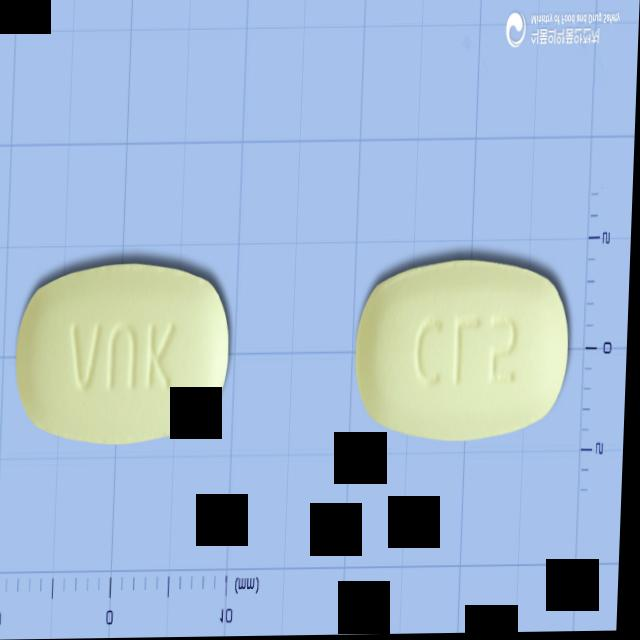Auscle: (14, 251, 238, 451), (355, 254, 578, 448)
